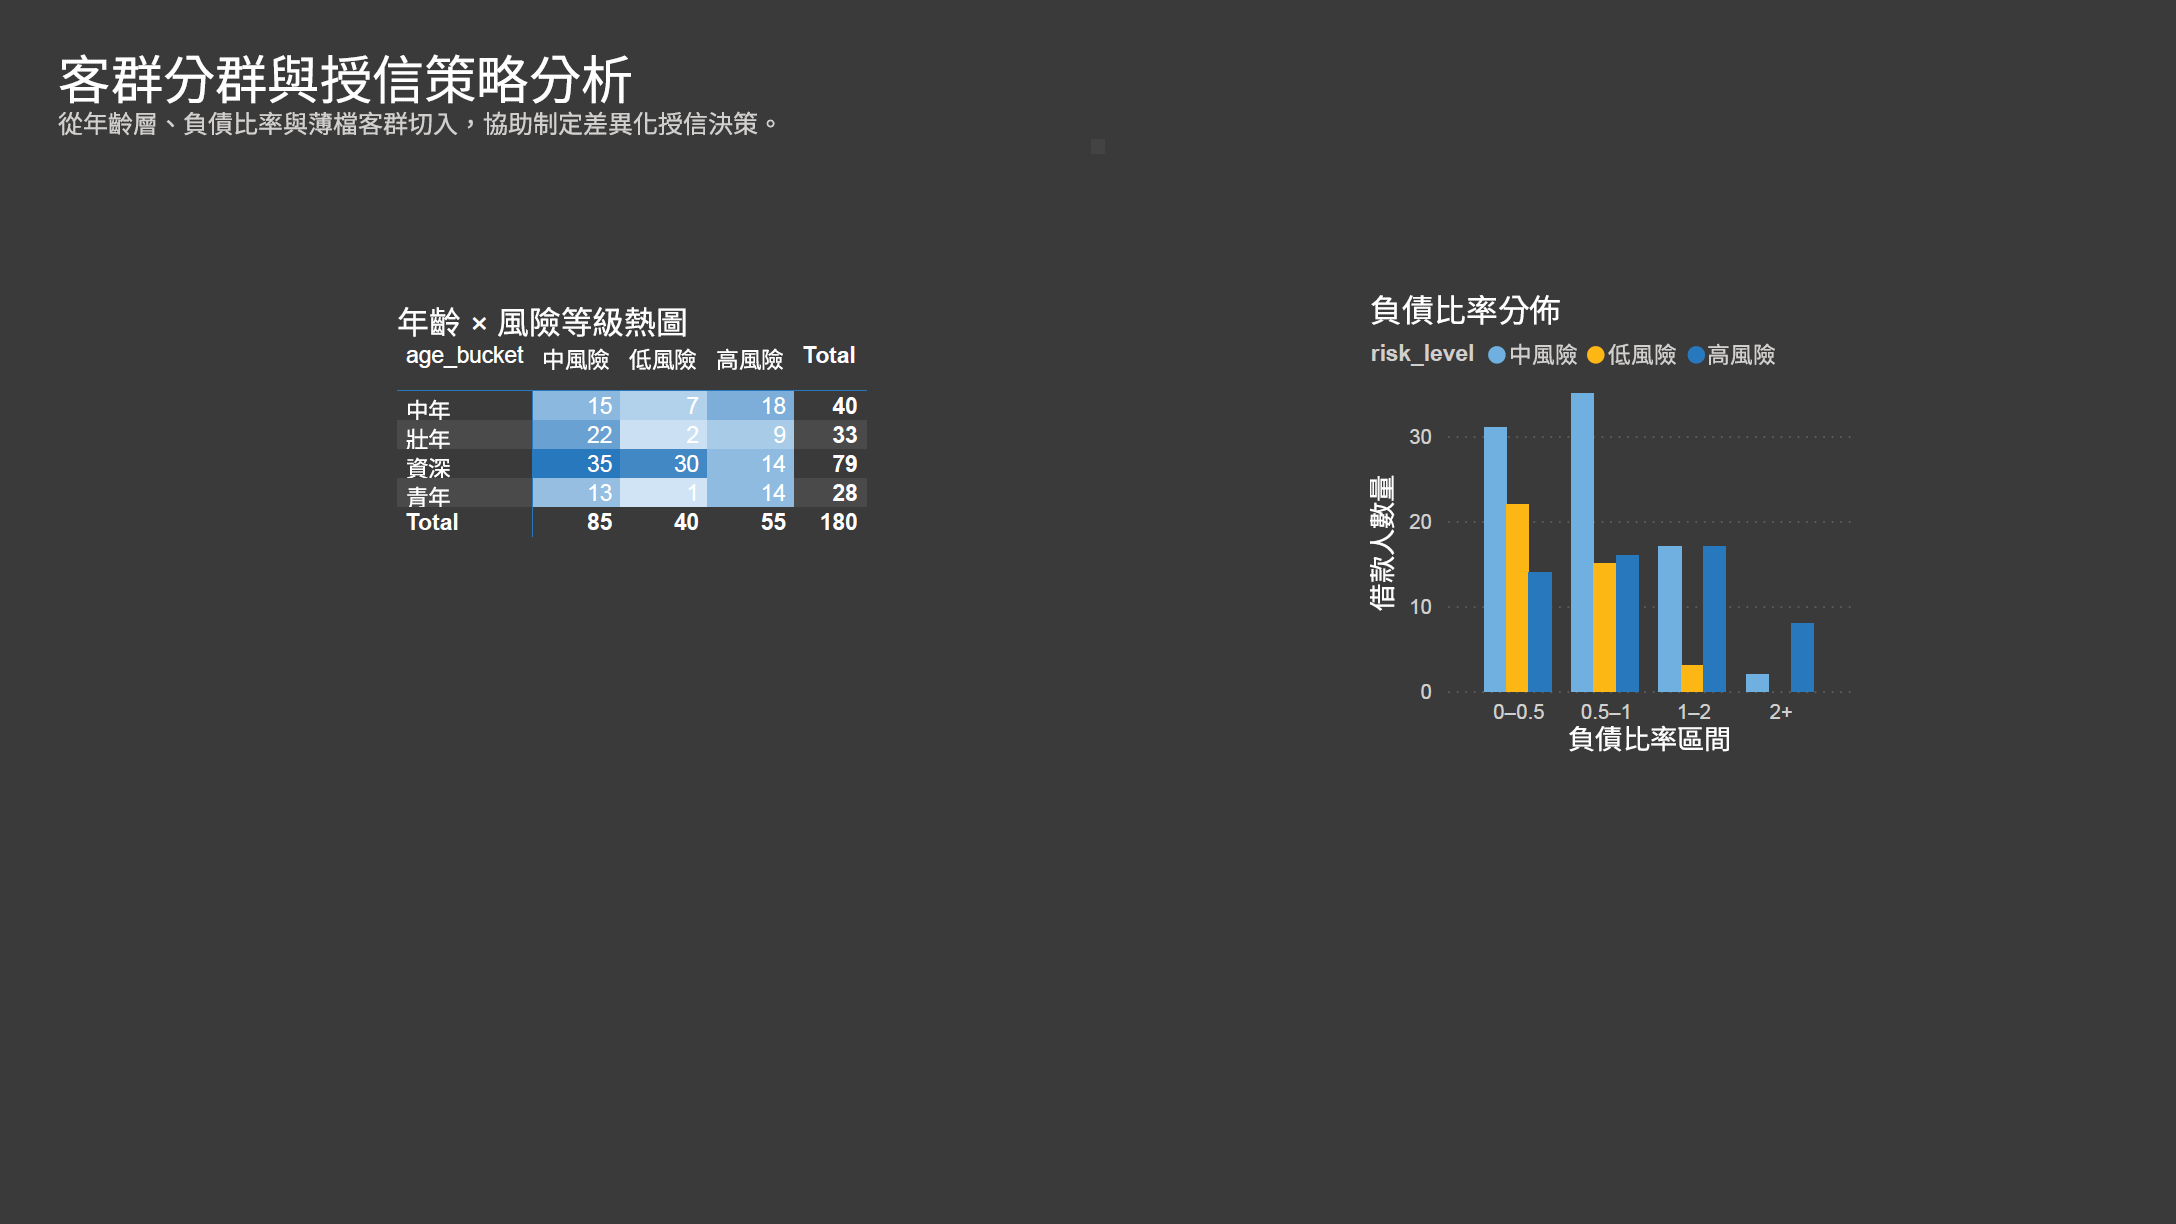

This screenshot's page, from the dashboard's own definition file:
{"tool":"powerbi","page":{"name":"Portfolio Segmentation","canvas":[1280,720],"ordinal":2},"visuals":[{"type":"pivotTable","title":"年齡 × 風險等級熱圖","fields":{"Rows":["powerbi_dashboard_clean.age_bucket"],"Columns":["powerbi_dashboard_clean.risk_level"],"Values":["CountNonNull(powerbi_dashboard_clean.borrower_id)"]},"box":[229.9,173.7,291.4,281.4],"z":0},{"type":"textbox","title":"客群分群與授信策略分析","box":[30.8,22.3,624.2,73],"z":1000},{"type":"clusteredColumnChart","title":"負債比率分佈","fields":{"Category":["powerbi_dashboard_clean.DebtRatio_Bin"],"Y":["CountNonNull(powerbi_dashboard_clean.borrower_id)"],"Series":["powerbi_dashboard_clean.risk_level"]},"box":[801.1,166.8,292.1,281.4],"z":2000}]}

Visuals, with their boxes in screenshot pixels (x1, y1, x2, y2), scaled from the page's 1280x720 canvas onto the 2176x1224 screenshot:
"年齡 × 風險等級熱圖" pivotTable: locate(391, 295, 886, 774)
"客群分群與授信策略分析" textbox: locate(52, 38, 1114, 162)
"負債比率分佈" clusteredColumnChart: locate(1362, 284, 1858, 762)
